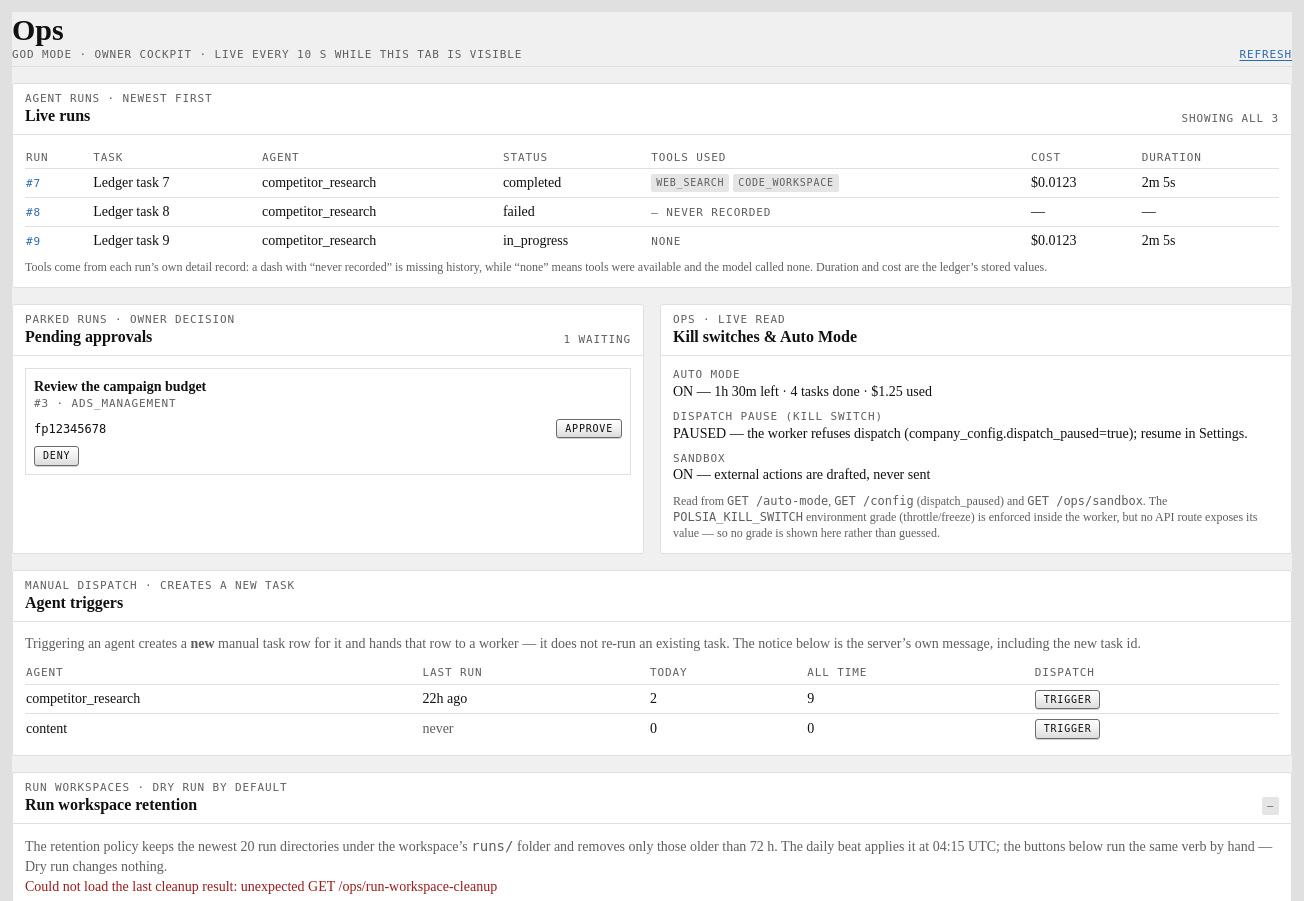
Test case: /ops — manual agent triggers › disables the control in flight and names the server's refusal by code
Click the button with test id "trigger-competitor_research" at (1068, 700), box [1035,690,1100,709]
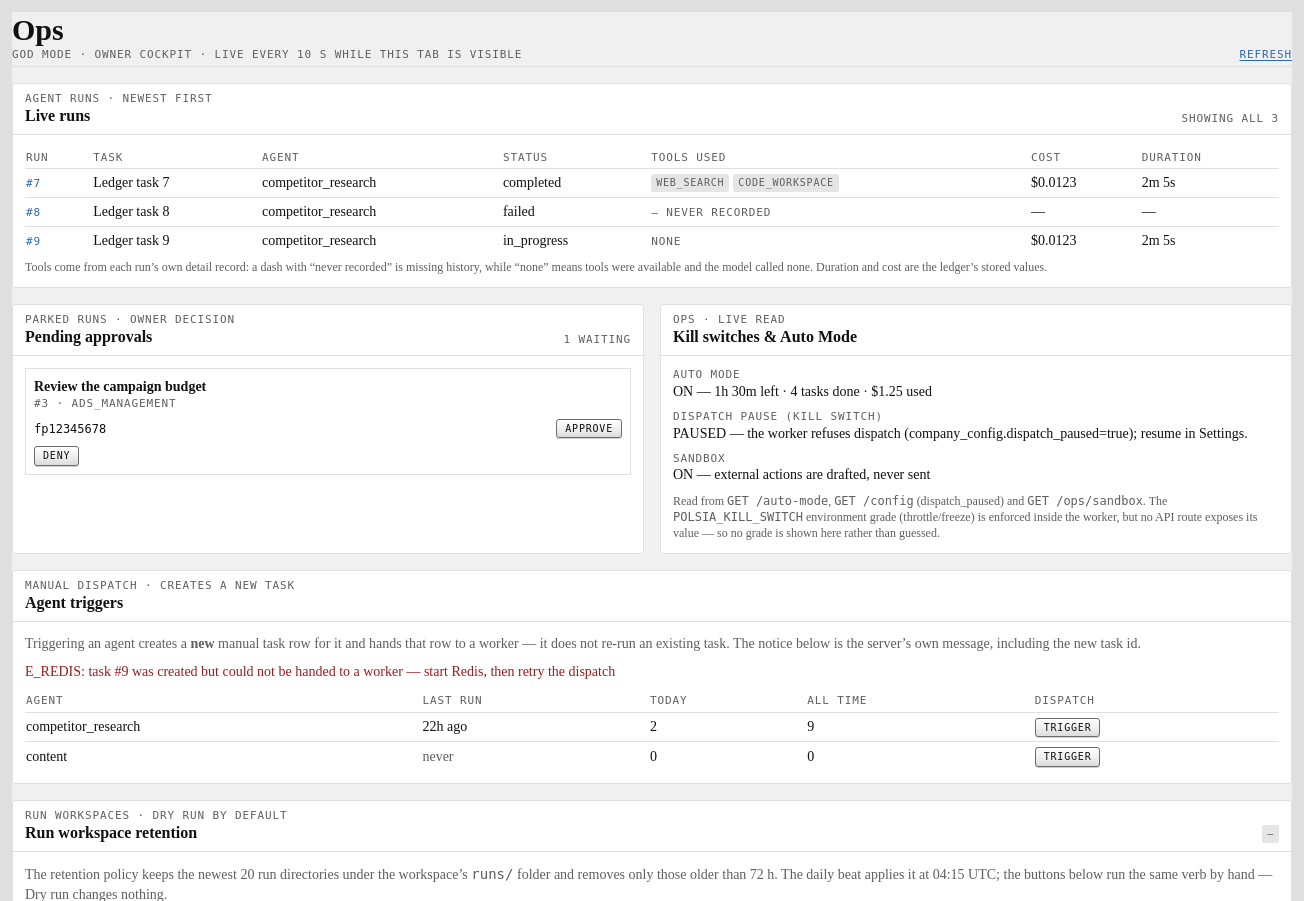
Now the message with test id "ops-trigger-error" shows "E_REDIS: task #9 was created but could not be handed to a worker", box [25,664,615,679]
